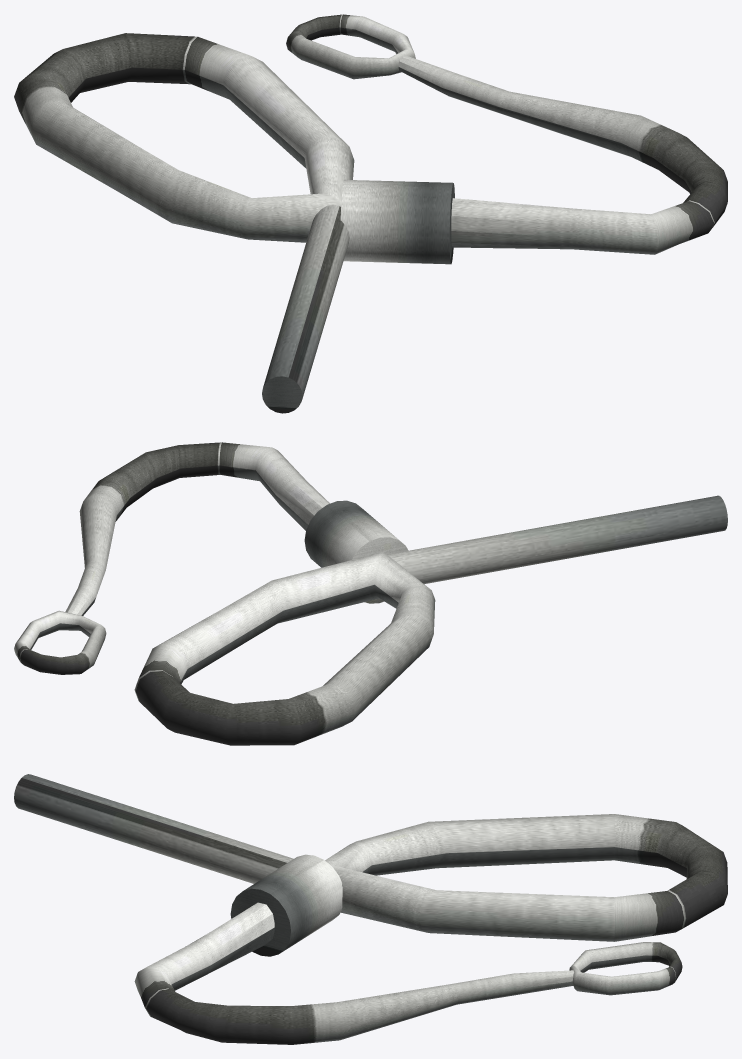
Rendered from kukuri.obj.
3 views of the same model, one above another, from view 1: azimuth 30°, elevation 25°; view 2: azimuth 150°, elevation 25°; view 3: azimuth 270°, elevation 25° (orthographic). The views are drawn at different scales.
Visible parts, largest first — view 1: pTorus2; view 2: pTorus2; view 3: pTorus2.
Part boxes in pixels (box(x1,y1,x2,y2)): pTorus2: box(14, 14, 727, 413); pTorus2: box(14, 442, 727, 745); pTorus2: box(14, 774, 727, 1044).
Bounding box in the file's own units: 48.43 × 6 × 58.83.
